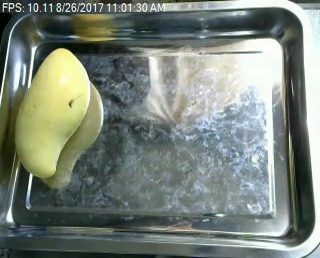Mango: (10, 44, 92, 179)
